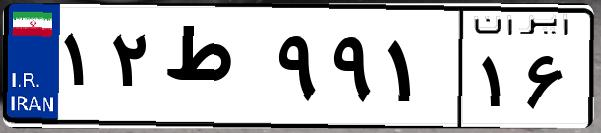1: (385, 28, 445, 110), (57, 26, 110, 100), (475, 38, 525, 113)
2: (110, 28, 158, 98)
6: (525, 38, 570, 115)
9: (270, 28, 330, 110), (330, 28, 385, 110)
ط: (158, 20, 270, 120)
